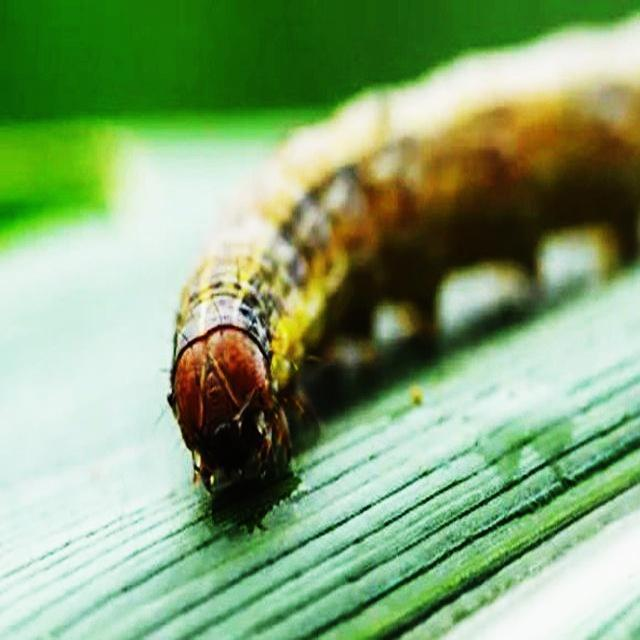gusano_cogollero: (160, 13, 640, 499)
